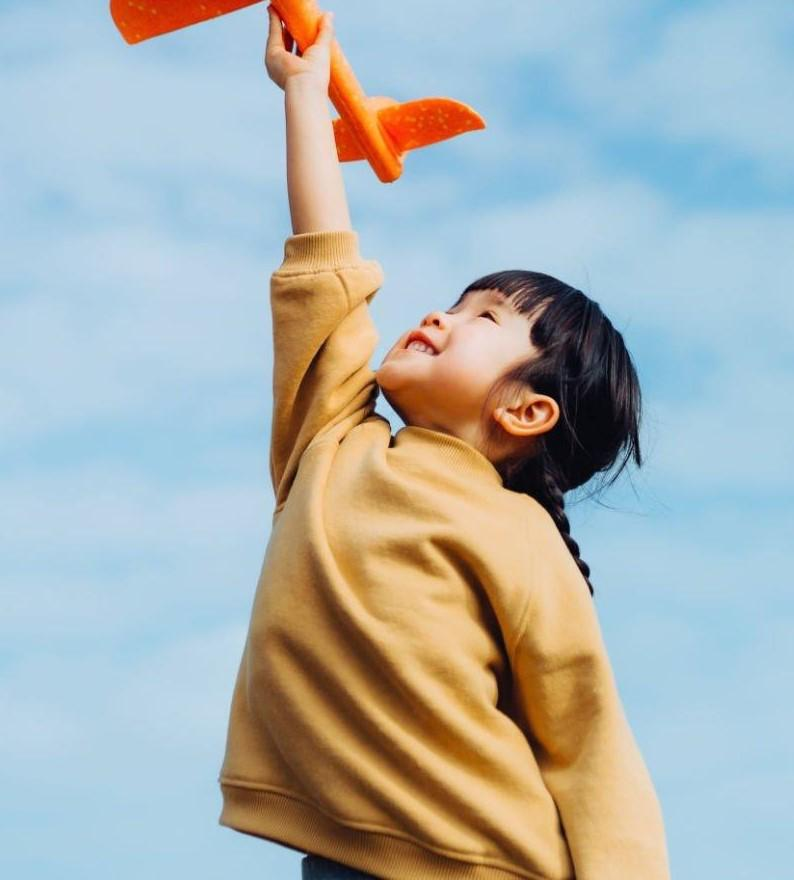Healthy: (381, 238, 581, 442)
